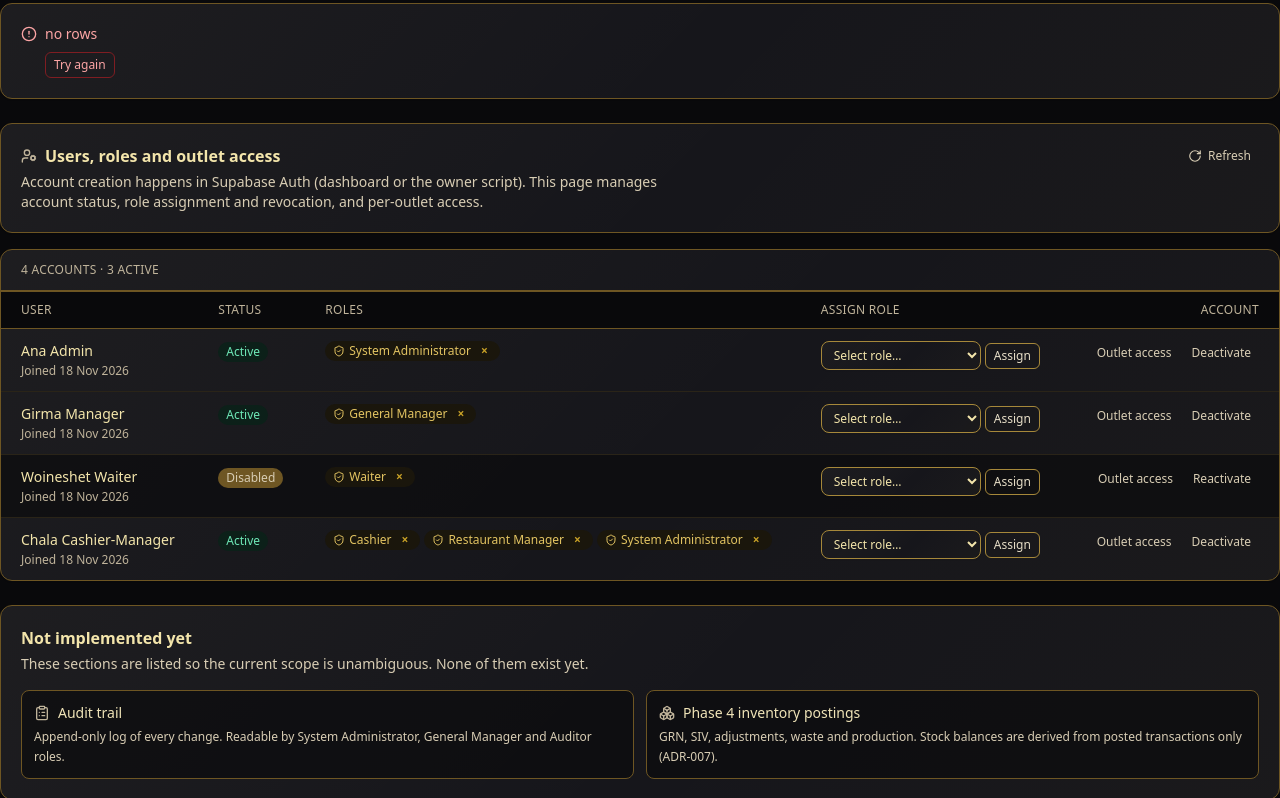
Scenario: Settings — users › assigns a role through the admin RPC
(page scrolled)
Expected: the text "Woineshet Waiter" is shown, [21,467,137,486]
Select "Restaurant Manager" in the dropdown named "Role for Woineshet Waiter": (901, 482) [821,467,981,496]
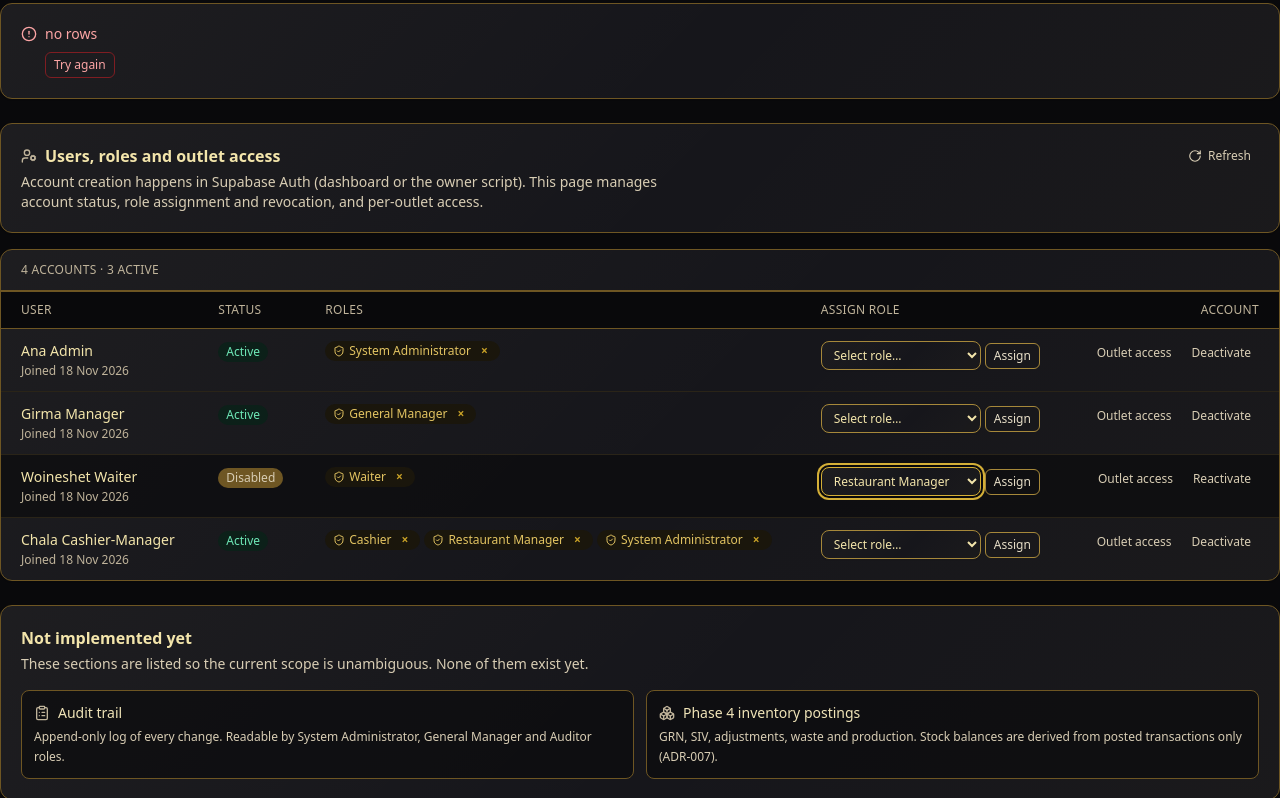
Click the button with aria-label "Assign role to Woineshet Waiter": (1012, 482) [985,468,1040,494]
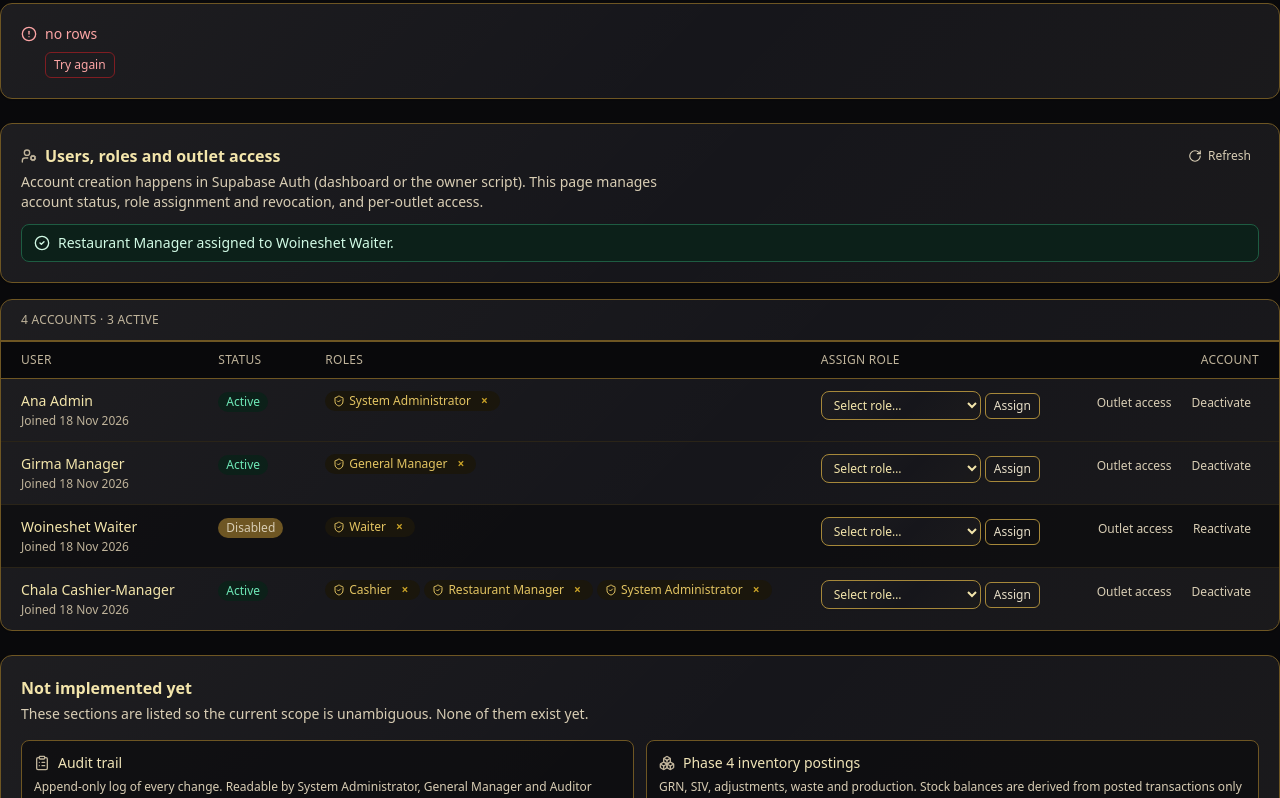
Expected: the message shows "Restaurant Manager assigned to Woineshet Waiter", [58,233,394,252]
